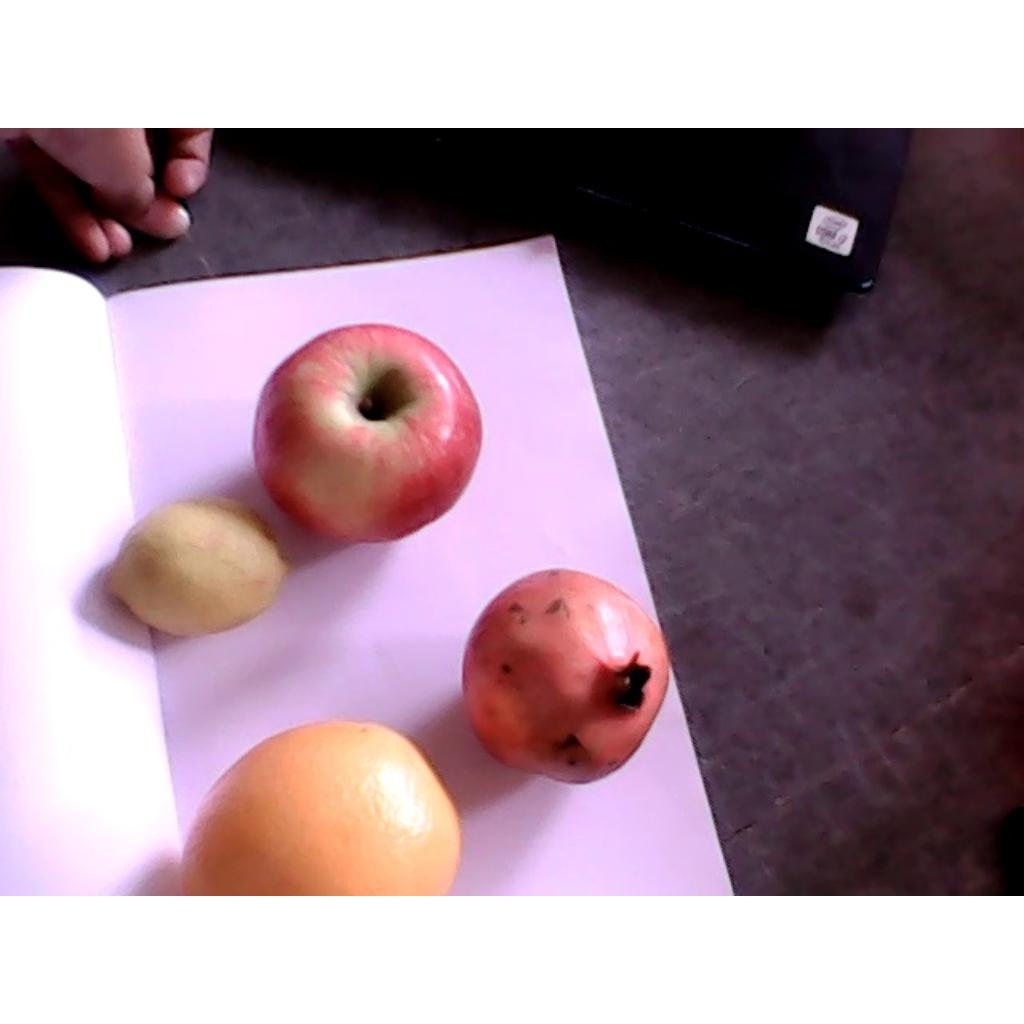apple: (255, 323, 483, 543)
lemon: (105, 498, 288, 636)
orange: (177, 716, 458, 894)
pomegranate: (460, 570, 670, 787)
